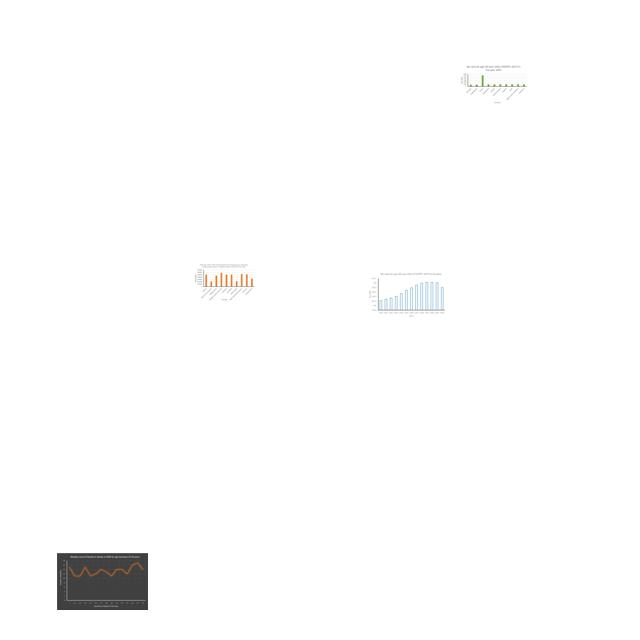Graph: (57, 553, 148, 610), (367, 272, 446, 319), (459, 64, 528, 105), (192, 263, 256, 301)
